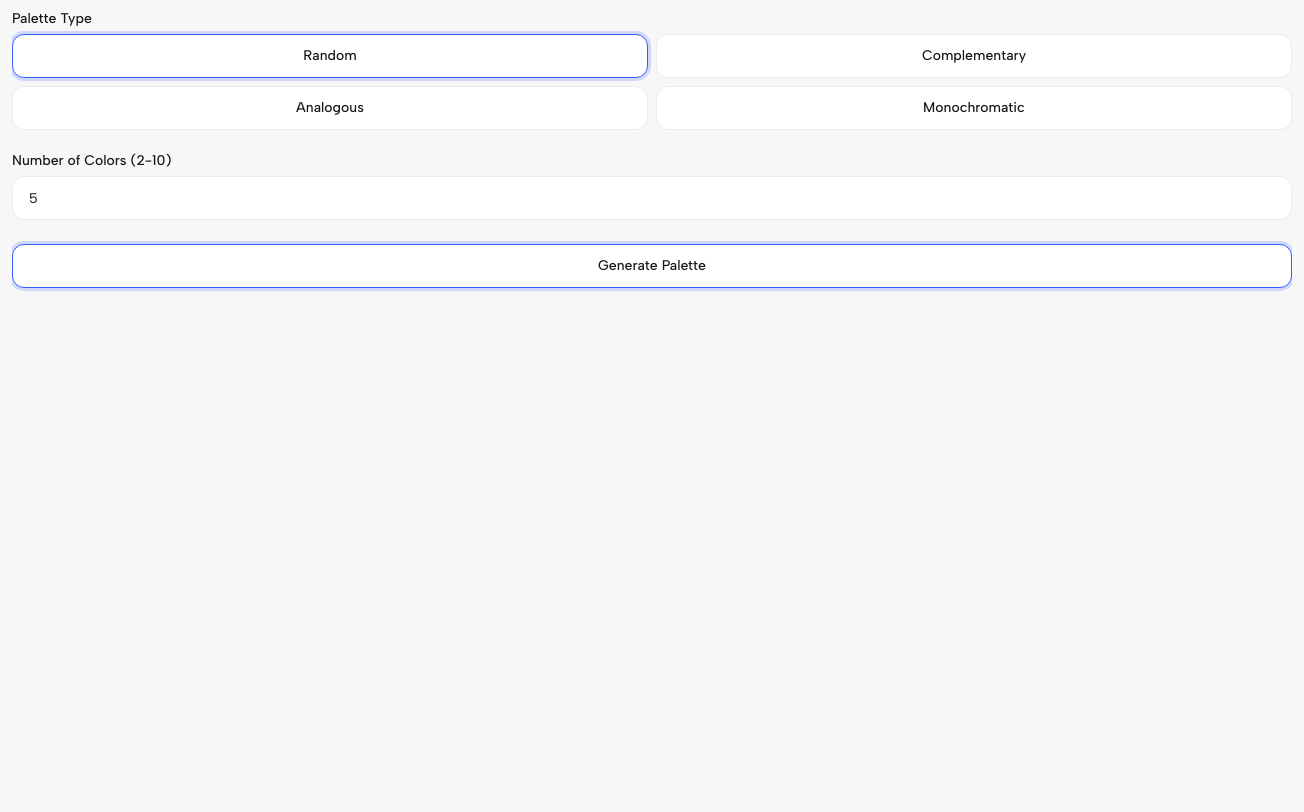
Scenario: ColorPaletteGeneratorTool › generates complementary palette
Click the button "Complementary".
click(974, 56)  # box top-left (656, 34), bottom-right (1292, 78)
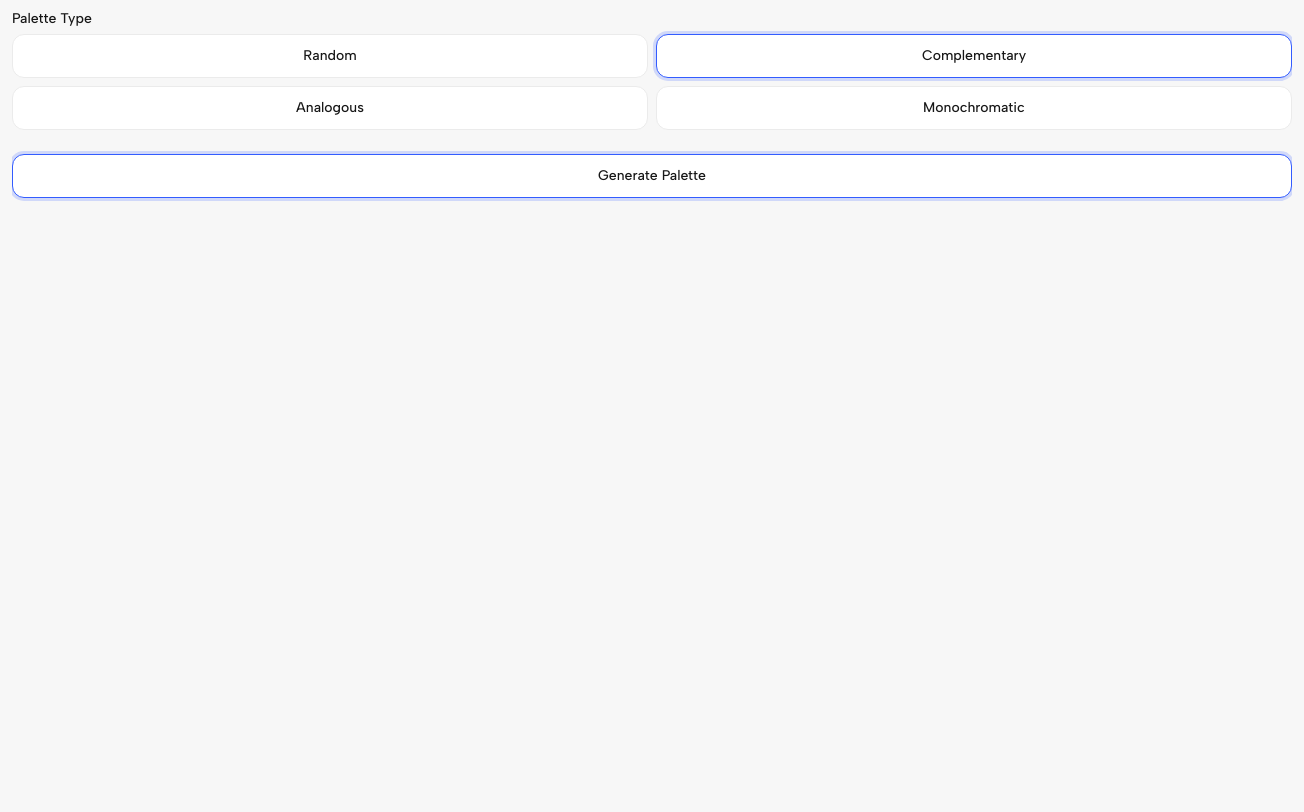
Click the button "Generate Palette".
click(652, 176)  # box top-left (12, 154), bottom-right (1292, 198)
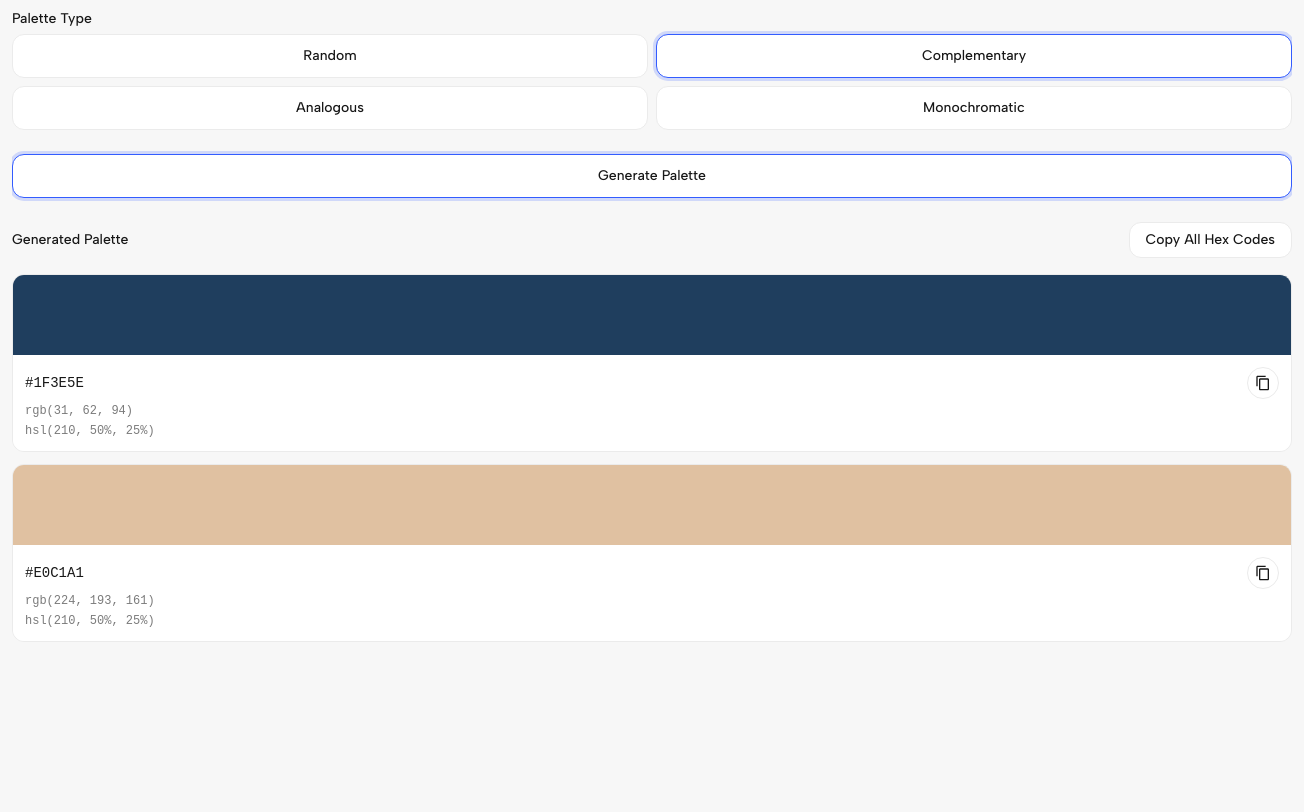
Expected: the text "Generated Palette" is shown, top-left (12, 233), bottom-right (128, 247)
